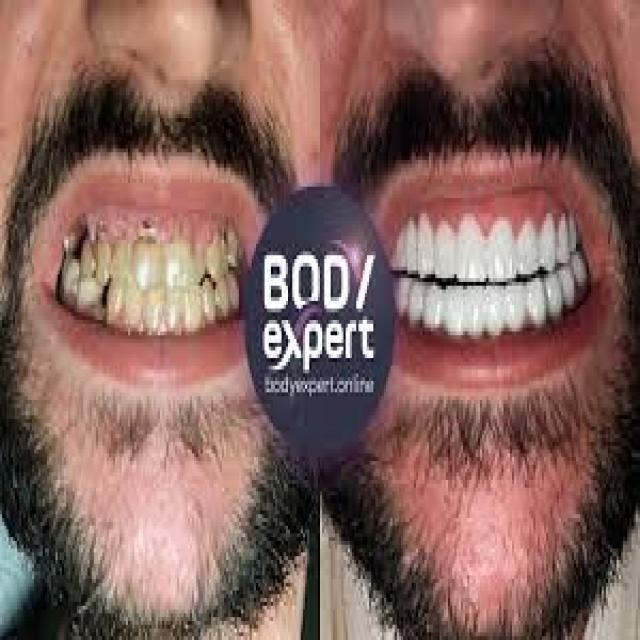tooth: (456, 202, 486, 282), (489, 202, 516, 289), (105, 282, 147, 335), (516, 198, 538, 282), (132, 232, 166, 286), (538, 191, 559, 278), (433, 209, 457, 282), (463, 271, 486, 339), (525, 267, 546, 339), (484, 271, 506, 339), (439, 274, 463, 336), (416, 198, 433, 282), (544, 259, 565, 324), (422, 274, 442, 332), (508, 270, 525, 336), (169, 236, 192, 278), (184, 282, 202, 335), (113, 232, 132, 282), (150, 290, 168, 335), (410, 274, 422, 332), (96, 240, 113, 278)
